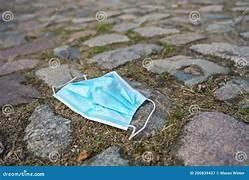Mask: (53, 72, 154, 138)
